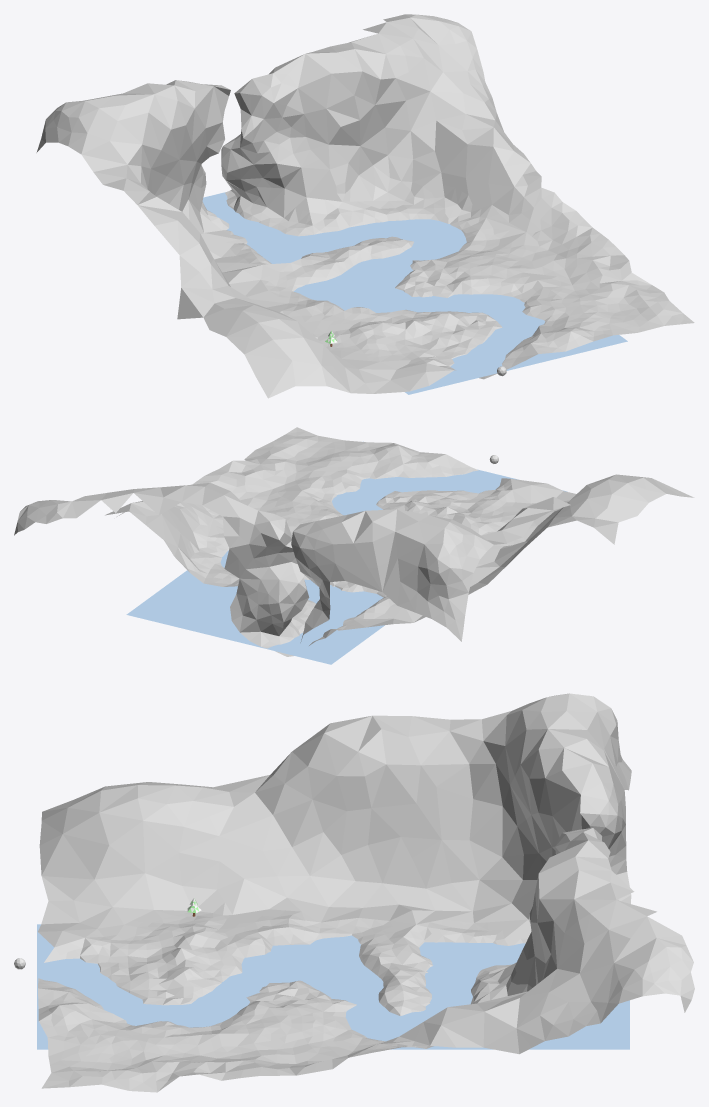
The model's file is snowy_trees.glb.
The picture shows the model from 3 angles, top to bottom: view 1: azimuth 30°, elevation 25°; view 2: azimuth 150°, elevation 25°; view 3: azimuth 270°, elevation 25°; orthographic projection. The views are drawn at different scales.
Visible parts, largest first — view 1: Terrain, River; view 2: Terrain, River; view 3: Terrain, River.
Boxes of the visible parts, <box> form: Terrain: <box>36,14,694,398</box>; River: <box>202,192,627,394</box>; Terrain: <box>14,427,694,656</box>; River: <box>126,441,567,664</box>; Terrain: <box>38,693,694,1092</box>; River: <box>37,924,629,1049</box>.
Bounding box in the file's own units: 105 × 36.62 × 115.
